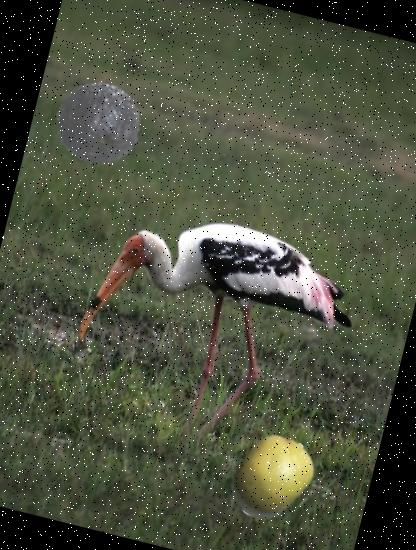Avocado: (40, 67, 152, 179)
Pomelo: (216, 422, 326, 532)
